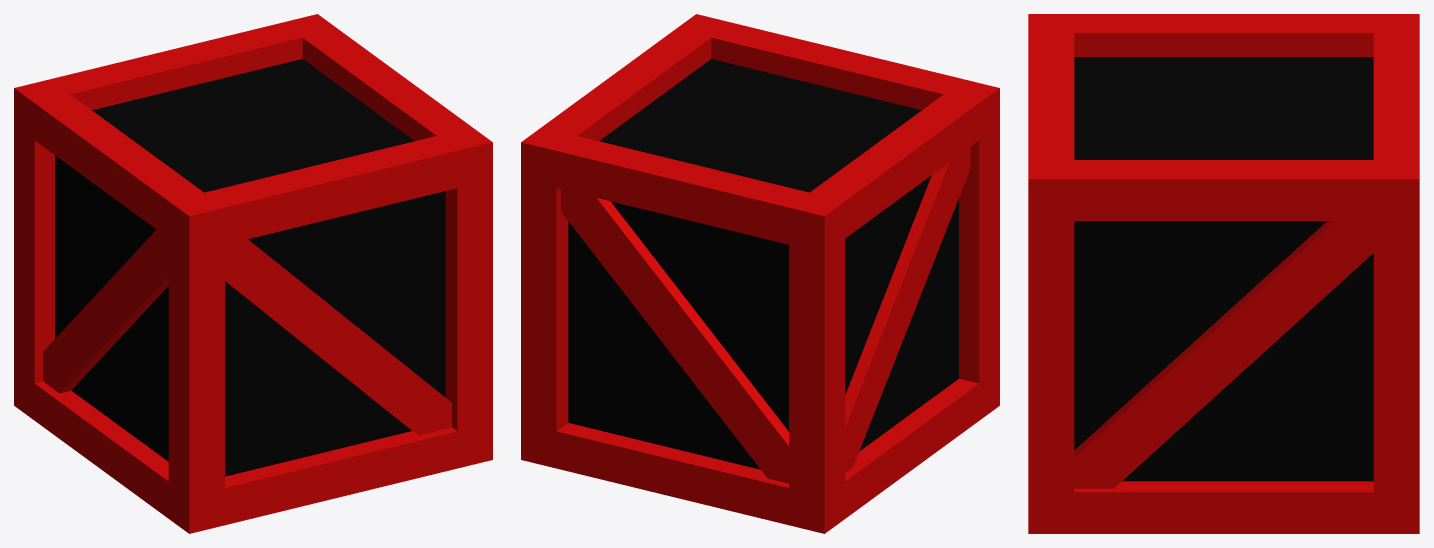
File: Crate_01.FBX
3 renders of one model, left to right at view 1: azimuth 30°, elevation 25°; view 2: azimuth 150°, elevation 25°; view 3: azimuth 270°, elevation 25°, orthographic. The views are drawn at different scales.
Parts seen in each view (by area): view 1: Crate_01; view 2: Crate_01; view 3: Crate_01.
Boxes of the visible parts, bbox=[...] form: Crate_01: bbox=[14, 14, 492, 533]; Crate_01: bbox=[521, 14, 999, 533]; Crate_01: bbox=[1028, 14, 1419, 533].
Size of the model in its own units: 91.22 by 91.22 by 91.22.
